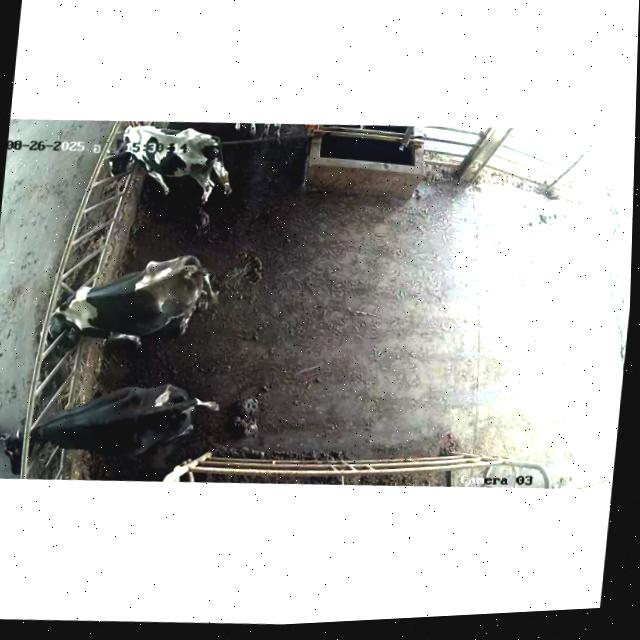eat: (21, 270, 123, 364), (74, 115, 173, 195), (0, 397, 89, 482)
